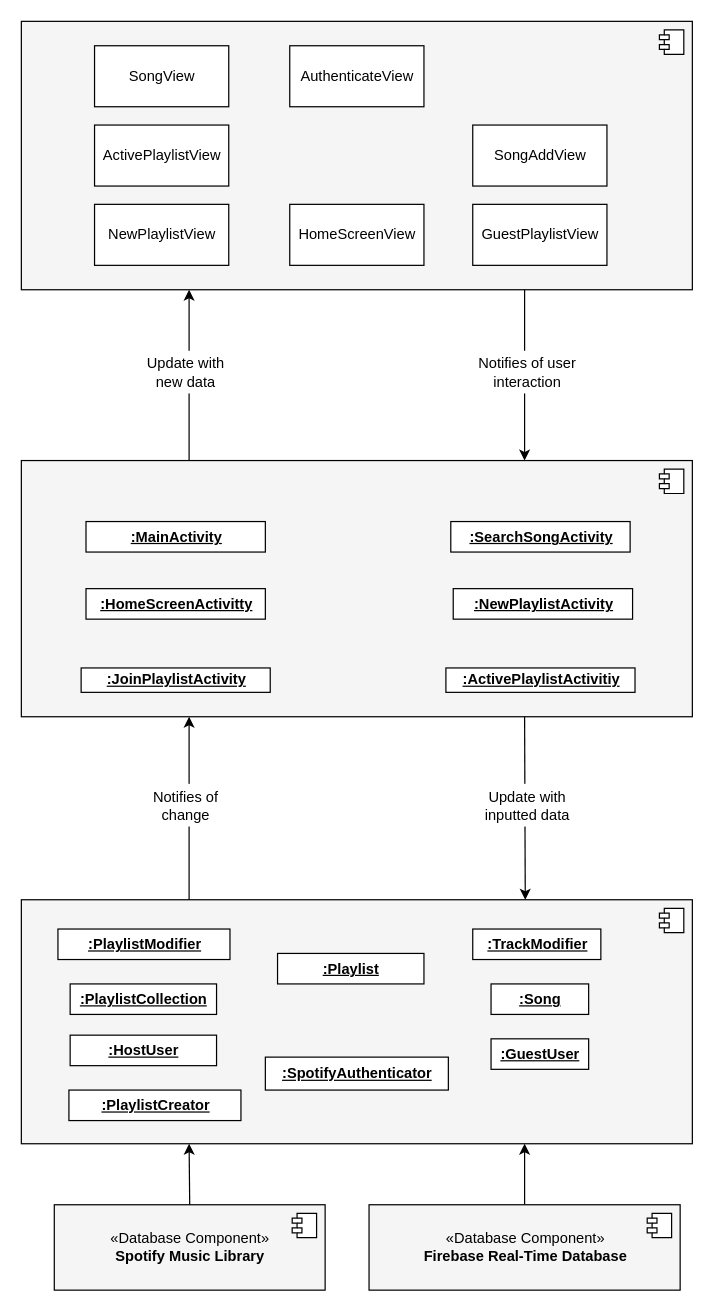
Image size: 714x1312. Some labels were removed from this diagram. Each missing label, with the box of its shape:
«Annotation» Model: (20, 899, 692, 1144)
«Annotation» Presenter (Controllers & Android Activities): (20, 459, 692, 717)
«Component» View (Android XML): (20, 20, 692, 290)
